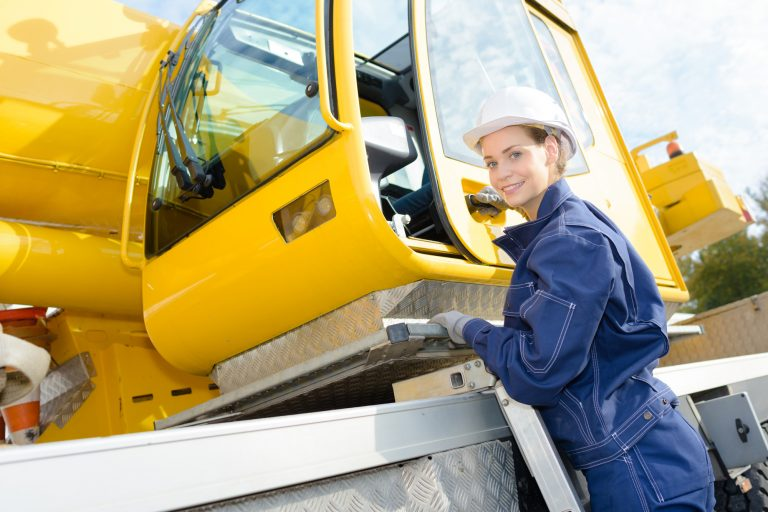crane-operator: (452, 66, 645, 311), (452, 66, 644, 311)
